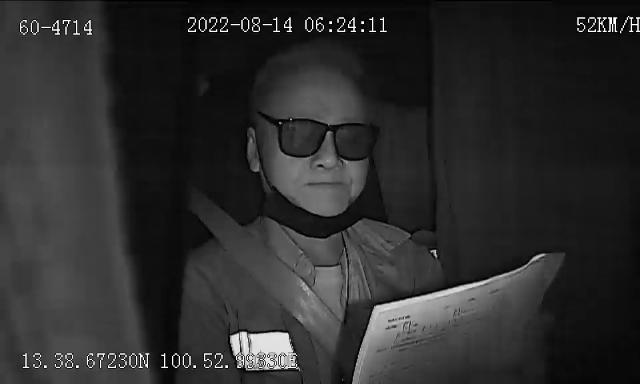Seatbelt: (196, 191, 344, 365)
